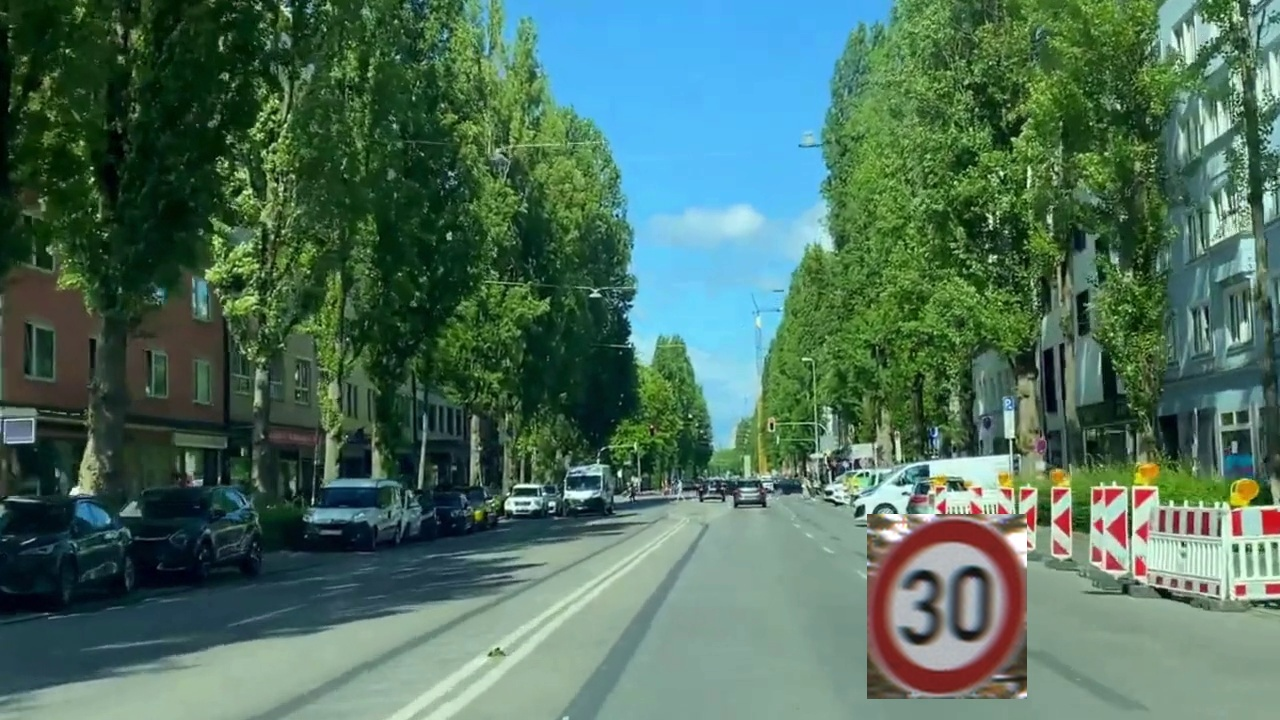Speed 30: (867, 514, 1027, 699)
